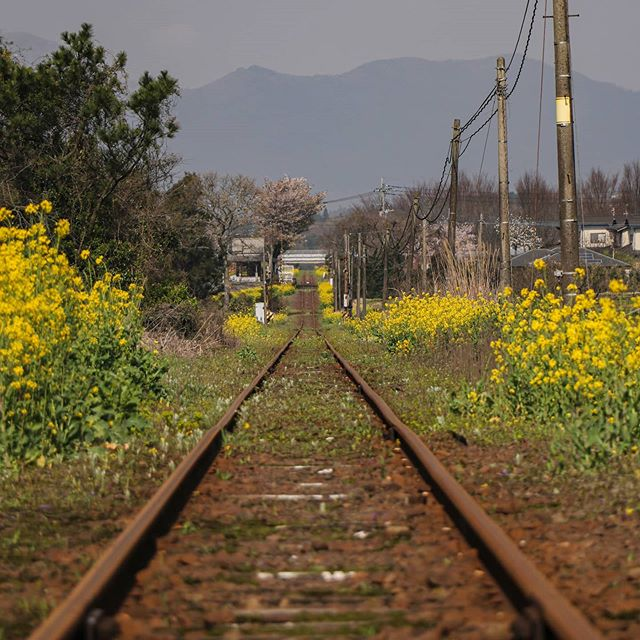mountain: (185, 33, 560, 126)
sky: (50, 1, 640, 62)
train track: (24, 319, 607, 639)
vegetation: (1, 1, 217, 406)
